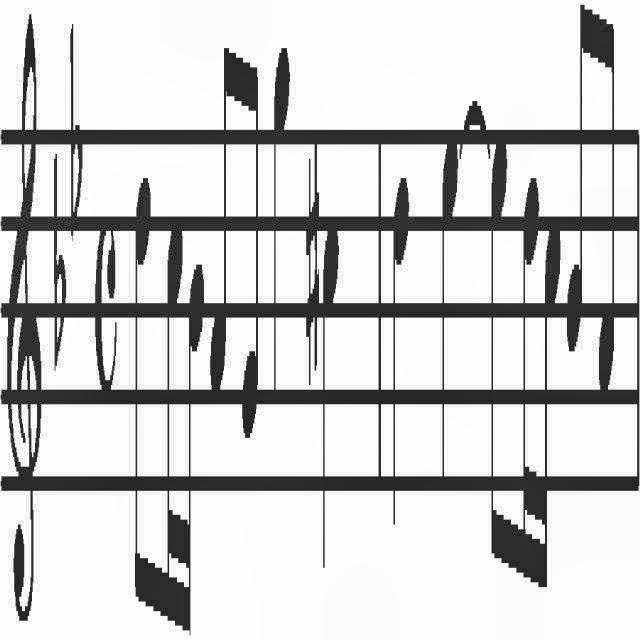Bass-clef: (5, 0, 42, 628)
Bemol: (68, 19, 84, 247), (53, 144, 67, 380)
Diez: (304, 134, 320, 386)
Eighth-note: (484, 136, 510, 584), (565, 0, 591, 372), (238, 50, 262, 450), (594, 6, 618, 394), (134, 174, 154, 614), (209, 30, 231, 394)
Quarter-note: (322, 215, 342, 581), (441, 134, 459, 511), (392, 170, 410, 538), (273, 40, 291, 406)
Sixteenth-note: (518, 172, 540, 590), (161, 214, 183, 622), (184, 255, 204, 640), (540, 212, 560, 584)
